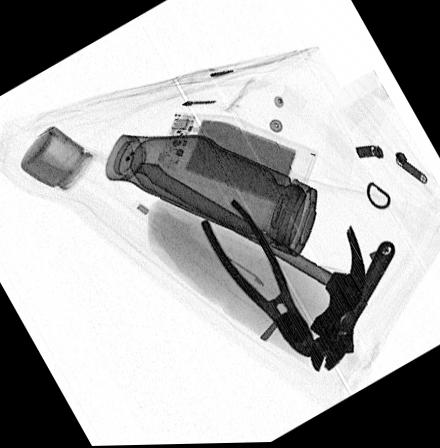Hammer: (134, 158, 366, 340)
Pliers: (198, 197, 318, 357)
Powerbank: (149, 111, 317, 214)
Wrench: (308, 241, 397, 373)
